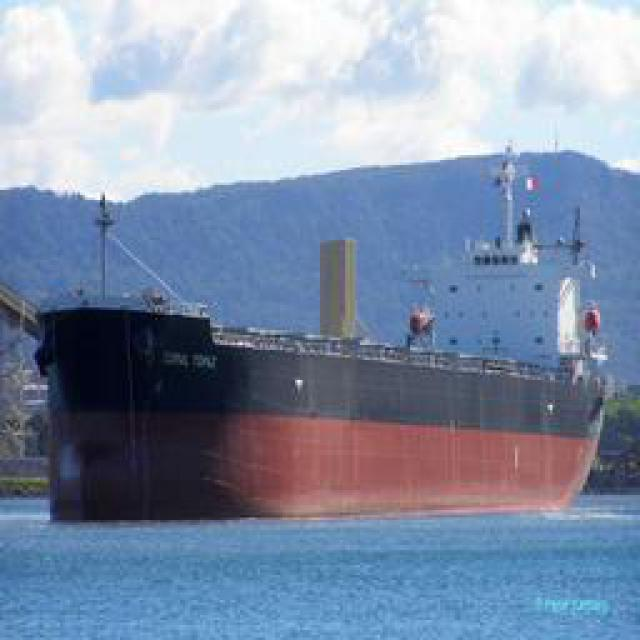Ship: (44, 106, 614, 521)
